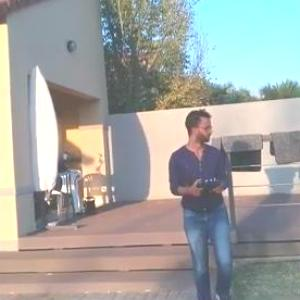follow: (165, 103, 238, 299)
